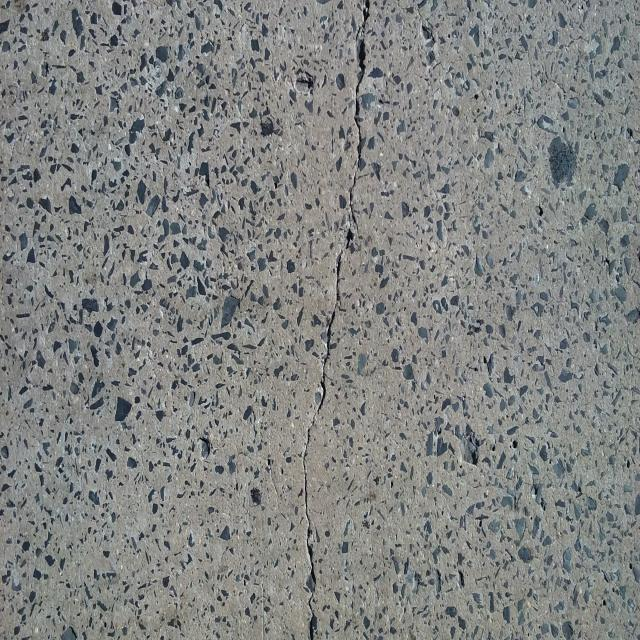Longitudial: (268, 0, 396, 640)
